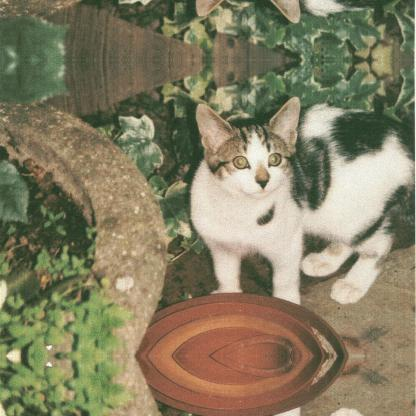Cat: (189, 96, 415, 306)
